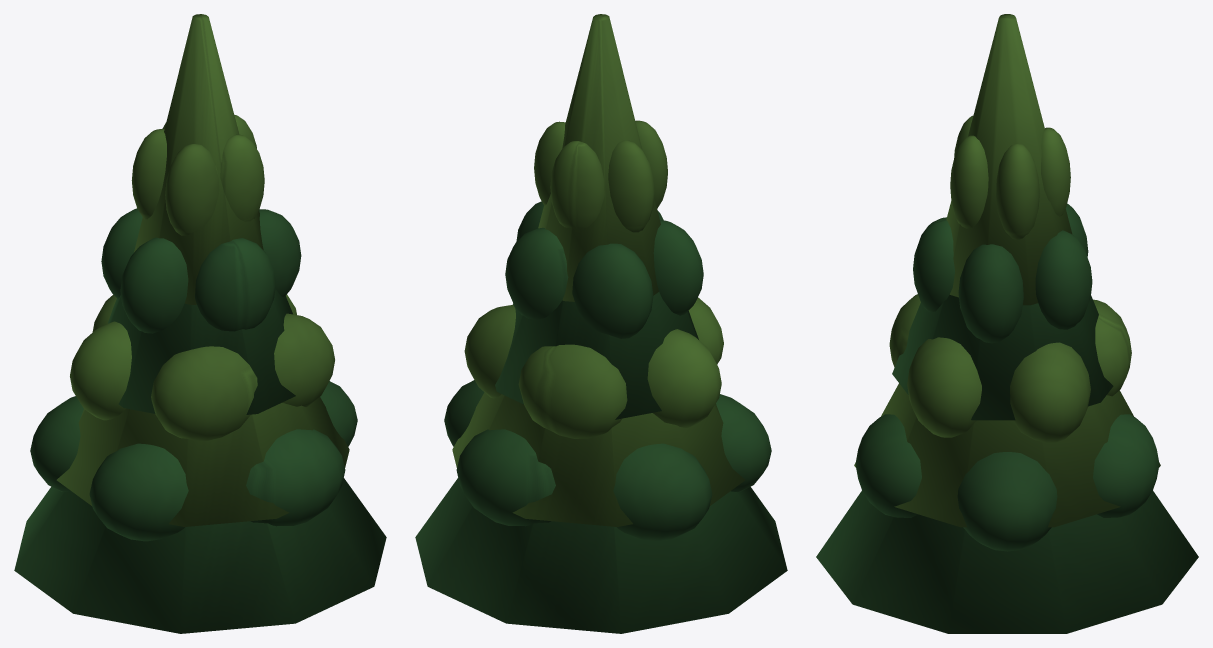
Rendered from Pine_2.fbx.
The picture shows the model from 3 angles, left to right: view 1: azimuth 30°, elevation 25°; view 2: azimuth 150°, elevation 25°; view 3: azimuth 270°, elevation 25°; orthographic projection.
Parts seen in each view (by area): view 1: Pine_2; view 2: Pine_2; view 3: Pine_2.
Part boxes in pixels (box(x1,y1,x2,y2)): Pine_2: box(14, 14, 386, 633); Pine_2: box(415, 14, 787, 633); Pine_2: box(816, 14, 1198, 633).
Size of the model in its own units: 150 by 245 by 158.
Materials: 1 (1 with a texture image).
